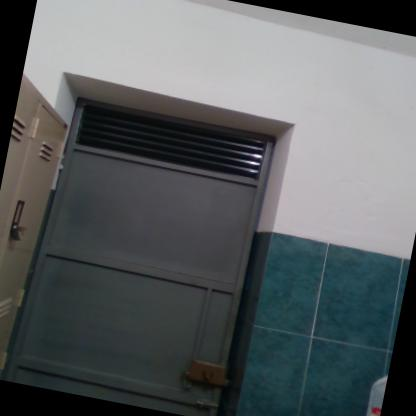closed: (0, 44, 324, 415)
